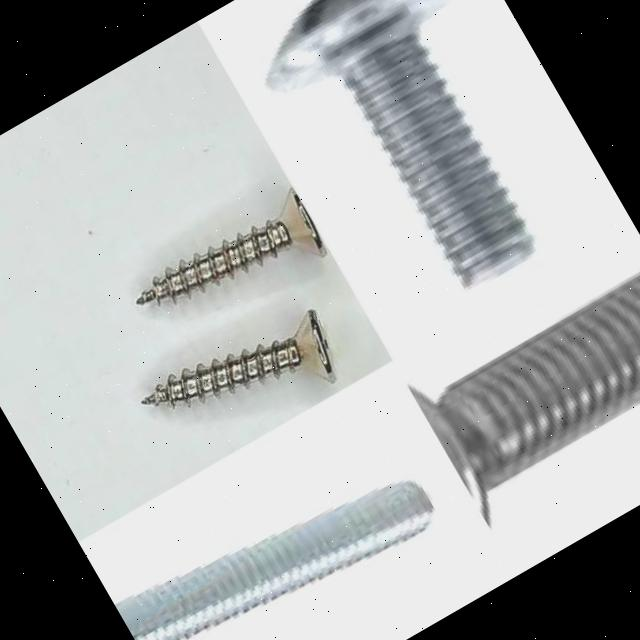Screw: (263, 0, 539, 289), (409, 271, 640, 526), (113, 475, 436, 640), (137, 187, 327, 303), (142, 308, 337, 407)
